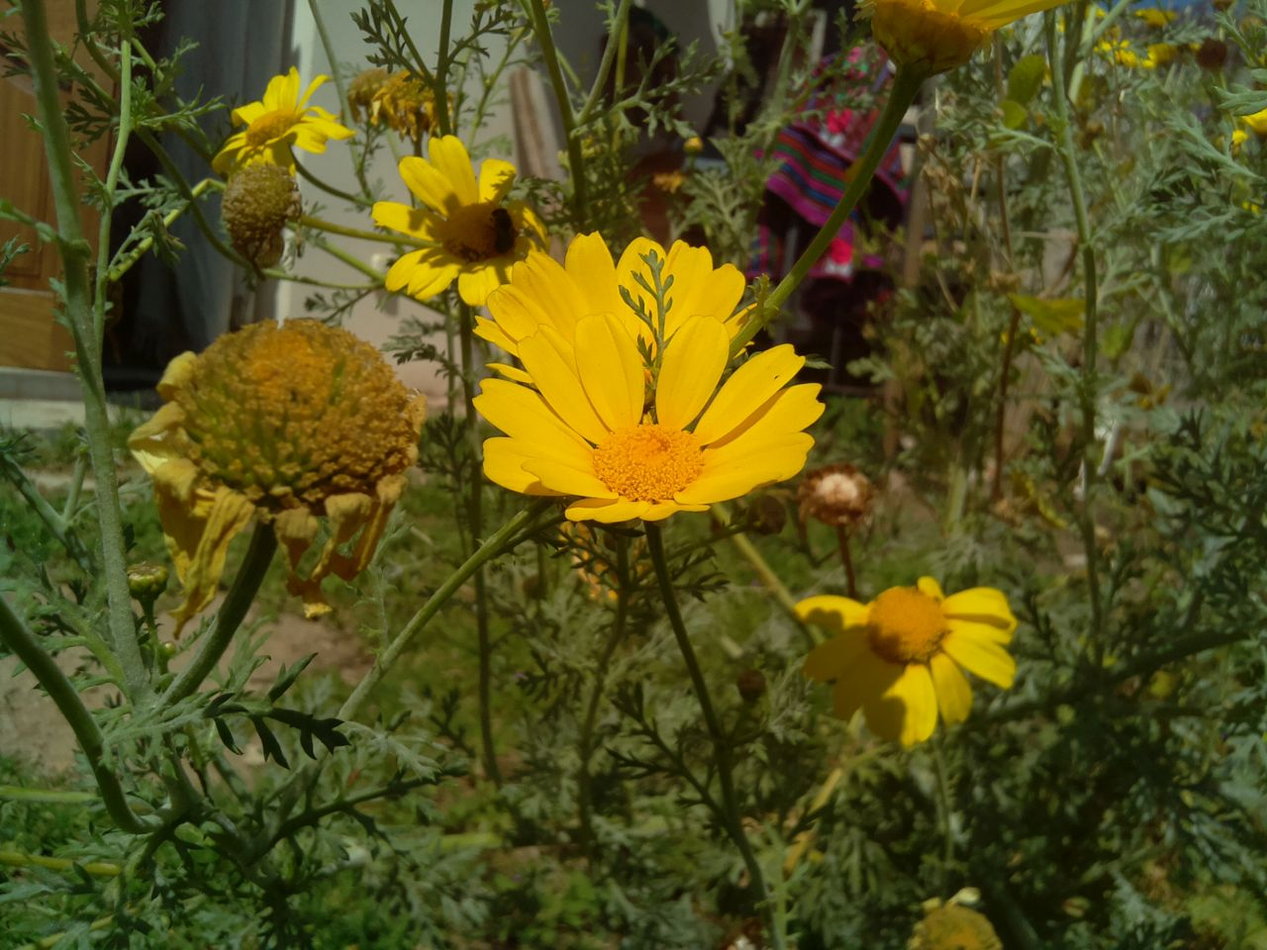bee: (468, 200, 538, 254)
